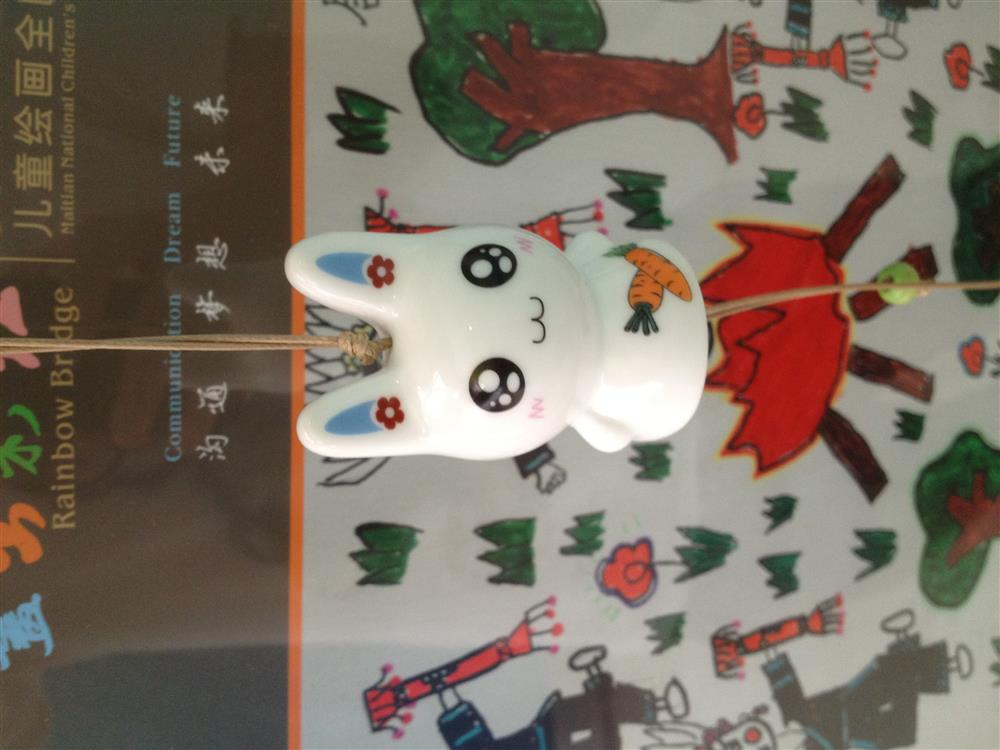porcelain_cat: (269, 213, 736, 475)
